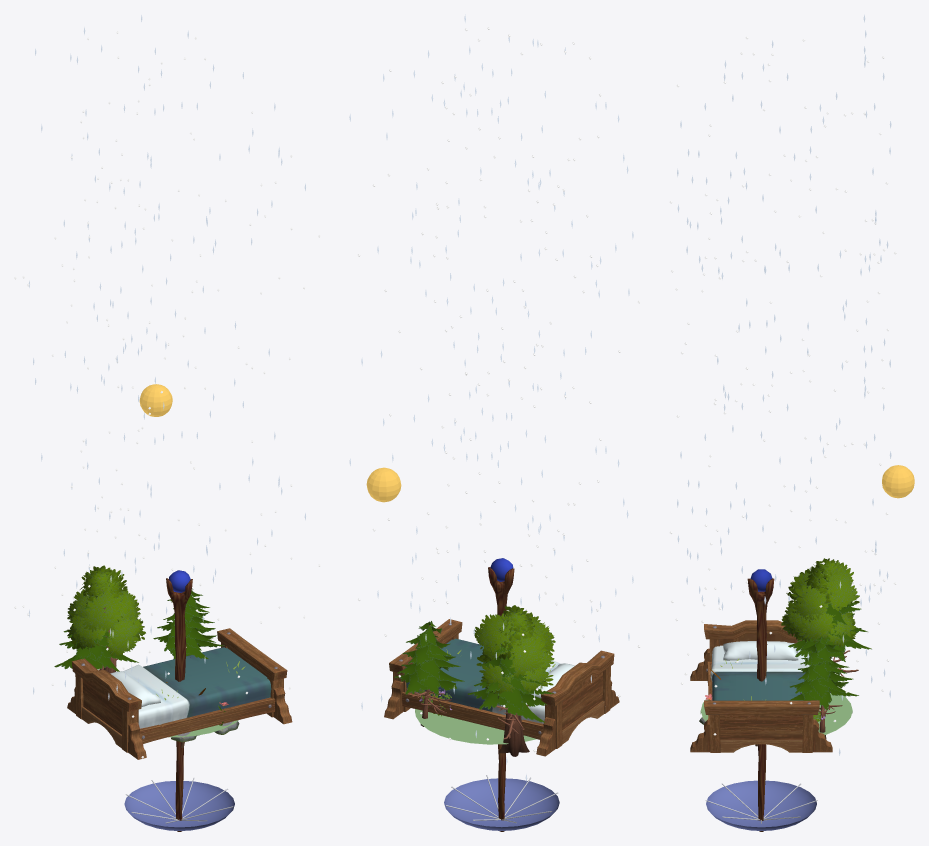
Rendered from world.glb.
3 renders of one model, left to right at view 1: azimuth 30°, elevation 25°; view 2: azimuth 150°, elevation 25°; view 3: azimuth 270°, elevation 25°, orthographic. The views are drawn at different scales.
Visible parts, largest first — view 1: bed, env_day, prop_umbrella, env_snow, prop_staff, fx_rain_0, fx_rain_1, env_sun; view 2: bed, env_day, env_snow, prop_umbrella, ground_grass, prop_staff, fx_rain_0, fx_rain_1, env_sun, fx_snow_1, fx_snow_0; view 3: bed, env_day, prop_umbrella, env_snow, prop_staff, fx_rain_0, fx_rain_1, ground_grass, env_sun, fx_snow_0, fx_snow_1.
Boxes of the visible parts, x1,y1,x2,y2 form: bed: (67, 628, 292, 759); env_day: (67, 565, 245, 742); prop_umbrella: (124, 777, 234, 830); env_snow: (54, 588, 239, 731); prop_staff: (166, 570, 192, 831); fx_rain_0: (33, 27, 305, 694); fx_rain_1: (28, 15, 279, 739); env_sun: (139, 384, 172, 416); bed: (384, 619, 619, 756); env_day: (415, 605, 555, 756); env_snow: (394, 621, 553, 739); prop_umbrella: (444, 775, 559, 830); ground_grass: (415, 709, 536, 744); prop_staff: (488, 558, 514, 831); fx_rain_0: (361, 14, 633, 782); fx_rain_1: (349, 37, 628, 764); env_sun: (366, 467, 401, 502); fx_snow_1: (372, 39, 640, 739); fx_snow_0: (358, 27, 601, 752); bed: (690, 620, 832, 752); env_day: (699, 558, 859, 724); prop_umbrella: (705, 780, 817, 830); env_snow: (705, 579, 871, 738); prop_staff: (747, 569, 774, 831); fx_rain_0: (677, 30, 891, 755); fx_rain_1: (677, 14, 884, 700); ground_grass: (700, 693, 852, 734); env_sun: (882, 465, 914, 498); fx_snow_0: (676, 37, 889, 735); fx_snow_1: (669, 52, 896, 693).
Size of the model in its own units: 1.51 by 5.67 by 1.61.
20 materials, 12 textured.
